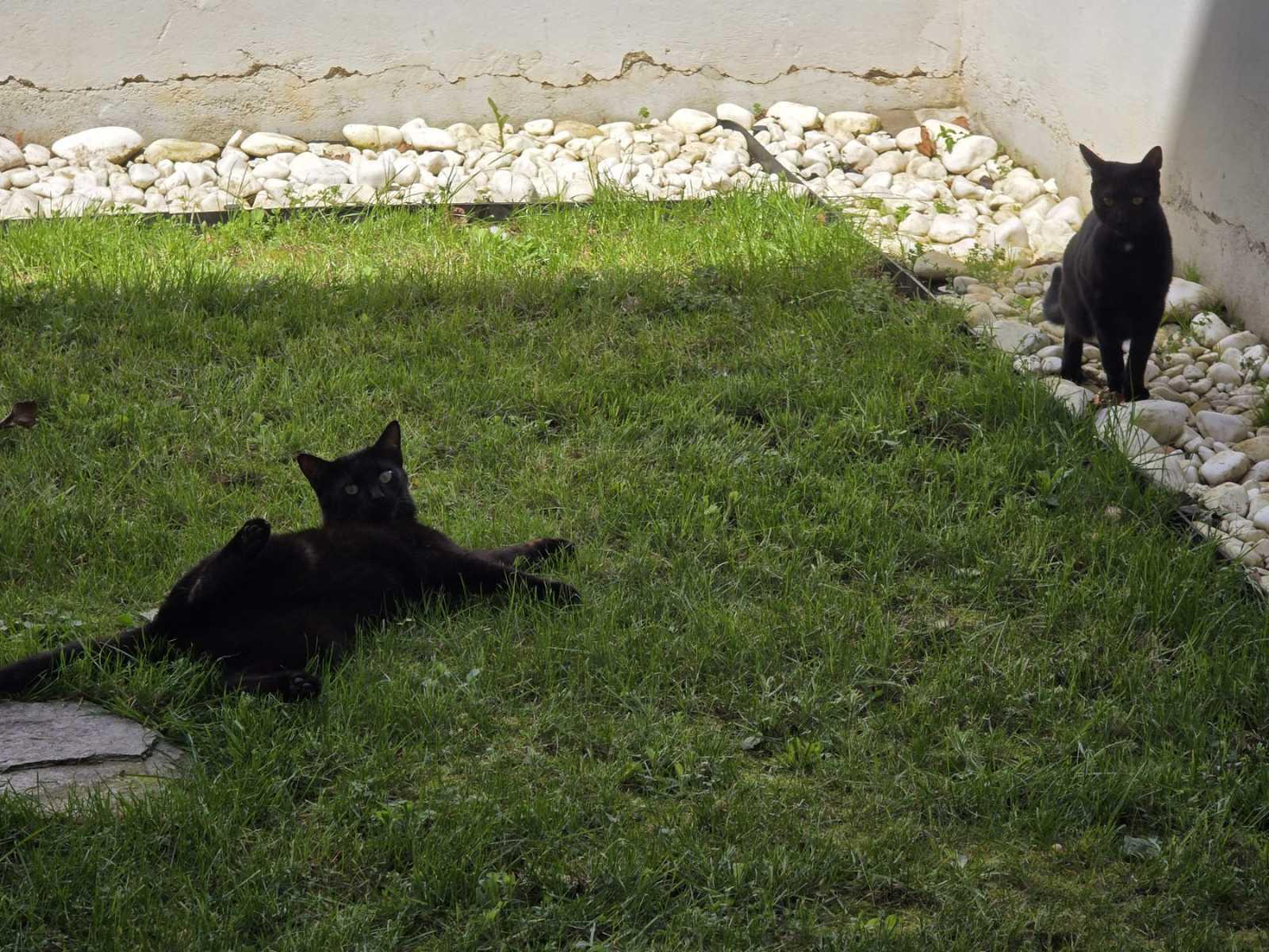macka: (0, 419, 580, 711), (1043, 141, 1173, 404)
